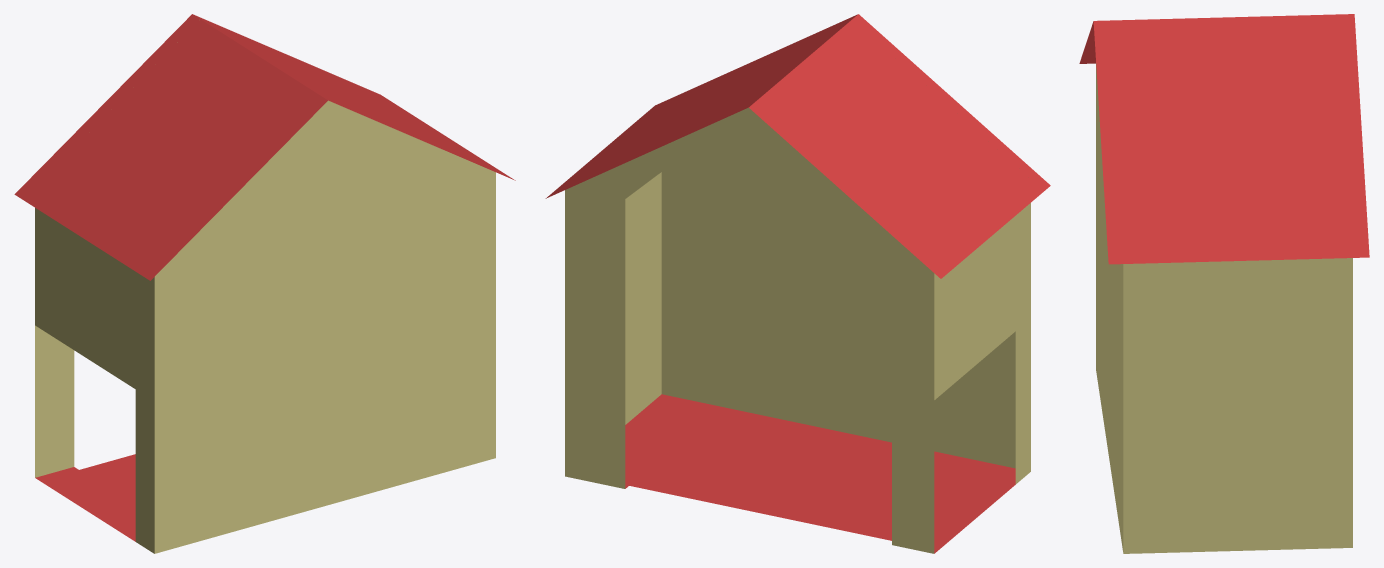
3 renders of one model, left to right at view 1: azimuth 30°, elevation 25°; view 2: azimuth 150°, elevation 25°; view 3: azimuth 270°, elevation 25°, orthographic. The views are drawn at different scales.
Bounding box in the file's own units: 15.34 × 9.22 × 15.37.
